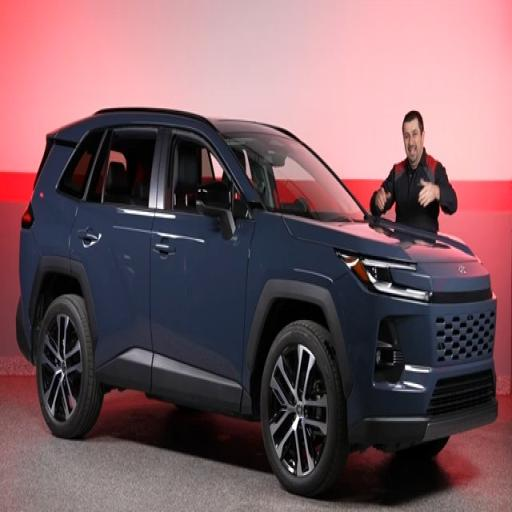bumper: (348, 399, 497, 450), (16, 298, 33, 362)
door: (151, 134, 254, 411), (70, 127, 159, 391)
emblem: (458, 265, 466, 274)
grille: (436, 311, 495, 365), (428, 372, 495, 415)
headlight: (336, 251, 431, 302)
hood: (284, 217, 490, 297), (284, 217, 476, 263)
side_mirror: (196, 183, 235, 240)
taillight: (22, 202, 34, 228)
tire: (396, 437, 449, 459)
wheel: (260, 320, 348, 496), (36, 295, 103, 438)
window: (166, 136, 247, 217), (87, 128, 157, 207), (58, 131, 103, 199)
windshield: (224, 133, 364, 221)
